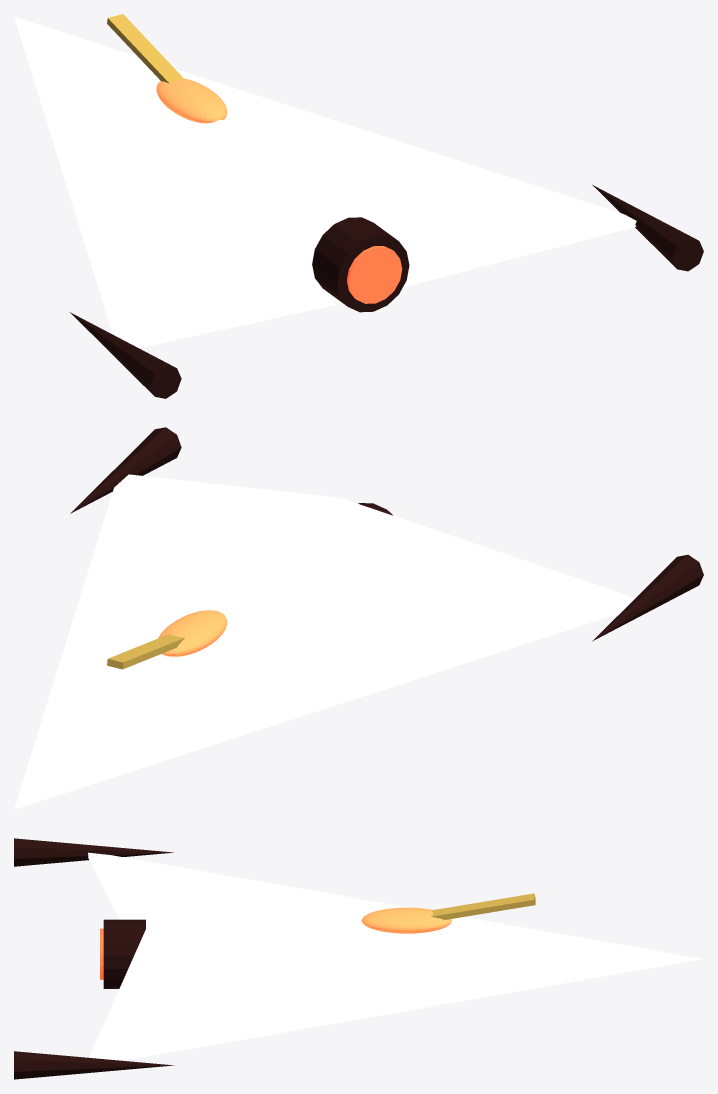
Rendered from ashkari_small.glb.
3 views of the same model, one above another, from view 1: azimuth 30°, elevation 25°; view 2: azimuth 150°, elevation 25°; view 3: azimuth 270°, elevation 25° (orthographic). The views are drawn at different scales.
Parts seen in each view (by area): view 1: ashkari_small; view 2: ashkari_small; view 3: ashkari_small.
Part boxes in pixels (x1,y1,x2,y2): ashkari_small: [14, 14, 703, 398]; ashkari_small: [14, 427, 703, 809]; ashkari_small: [14, 838, 702, 1079].
Bounding box in the file's own units: 7.74 × 1.66 × 10.
